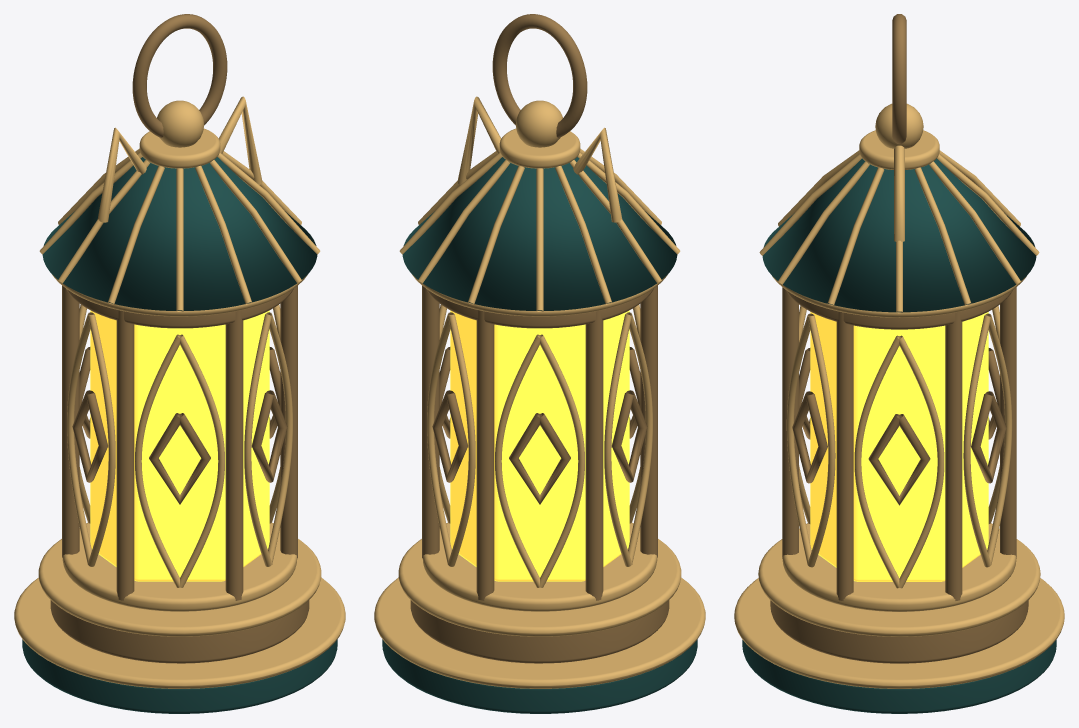
Rendered from wayfinder-lantern.glb.
The picture shows the model from 3 angles, left to right: view 1: azimuth 30°, elevation 25°; view 2: azimuth 150°, elevation 25°; view 3: azimuth 270°, elevation 25°; orthographic projection.
Parts seen in each view (by area): view 1: Lantern • luminous honey core, Lantern • swept roof, Lantern • turned plinth.001, Lantern • turned plinth.003, Lantern • turned plinth, Lantern • turned plinth.004, Lantern • turned plinth.002, Lantern • upright.004, Lantern • upright.003, Lantern • carry loop, Lantern • upright.005, Lantern • upright.002 (+24 smaller); view 2: Lantern • luminous honey core, Lantern • swept roof, Lantern • turned plinth.001, Lantern • turned plinth.003, Lantern • turned plinth, Lantern • turned plinth.004, Lantern • turned plinth.002, Lantern • upright.001, Lantern • upright.002, Lantern • carry loop, Lantern • upright.003, Lantern • upright (+24 smaller); view 3: Lantern • luminous honey core, Lantern • swept roof, Lantern • turned plinth.001, Lantern • turned plinth.003, Lantern • turned plinth, Lantern • turned plinth.004, Lantern • turned plinth.002, Lantern • upright, Lantern • upright.005, Lantern • upright.001, Lantern • upright.004, Lantern • turned plinth.005 (+24 smaller).
Part boxes in pixels (box(x1,y1,x2,y2)): Lantern • luminous honey core: box(90, 310, 269, 581); Lantern • swept roof: box(42, 157, 317, 310); Lantern • turned plinth.001: box(14, 577, 345, 688); Lantern • turned plinth.003: box(38, 539, 321, 636); Lantern • turned plinth: box(22, 639, 337, 713); Lantern • turned plinth.004: box(62, 522, 297, 611); Lantern • turned plinth.002: box(50, 600, 309, 663); Lantern • upright.004: box(225, 310, 243, 600); Lantern • upright.003: box(116, 310, 134, 600); Lantern • carry loop: box(132, 14, 227, 138); Lantern • upright.005: box(280, 285, 297, 558); Lantern • upright.002: box(62, 285, 79, 557); Lantern • luminous honey core: box(450, 310, 629, 581); Lantern • swept roof: box(402, 157, 677, 310); Lantern • turned plinth.001: box(374, 577, 705, 688); Lantern • turned plinth.003: box(398, 539, 681, 636); Lantern • turned plinth: box(382, 639, 697, 713); Lantern • turned plinth.004: box(422, 522, 657, 611); Lantern • turned plinth.002: box(410, 600, 669, 663); Lantern • upright.001: box(476, 310, 494, 600); Lantern • upright.002: box(585, 310, 603, 600); Lantern • carry loop: box(492, 14, 587, 138); Lantern • upright.003: box(640, 285, 657, 557); Lantern • upright: box(422, 285, 439, 558); Lantern • luminous honey core: box(810, 312, 988, 581); Lantern • swept roof: box(762, 158, 1036, 312); Lantern • turned plinth.001: box(734, 578, 1064, 688); Lantern • turned plinth.003: box(758, 539, 1040, 636); Lantern • turned plinth: box(742, 640, 1056, 713); Lantern • turned plinth.004: box(782, 523, 1016, 611); Lantern • turned plinth.002: box(770, 600, 1028, 663); Lantern • upright: box(945, 311, 962, 600); Lantern • upright.005: box(836, 311, 853, 600); Lantern • upright.001: box(1000, 287, 1016, 558); Lantern • upright.004: box(782, 287, 798, 558); Lantern • turned plinth.005: box(786, 290, 1012, 329).
Size of the model in its own units: 0.82 by 1.73 by 0.82.
